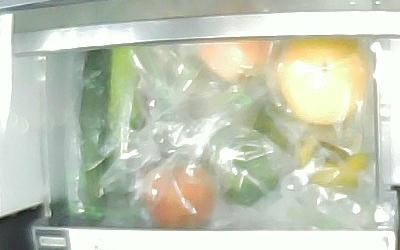apple_vinyl: (136, 165, 215, 230)
broccoli_vinyl: (222, 105, 283, 205)
cucumber_vinyl: (107, 46, 142, 214), (78, 47, 111, 213), (77, 156, 106, 225)
grapefruit_vinyl: (277, 39, 366, 126)
peach_vinyl: (196, 39, 269, 85)
persimmon_vinyl: (296, 136, 370, 189)
